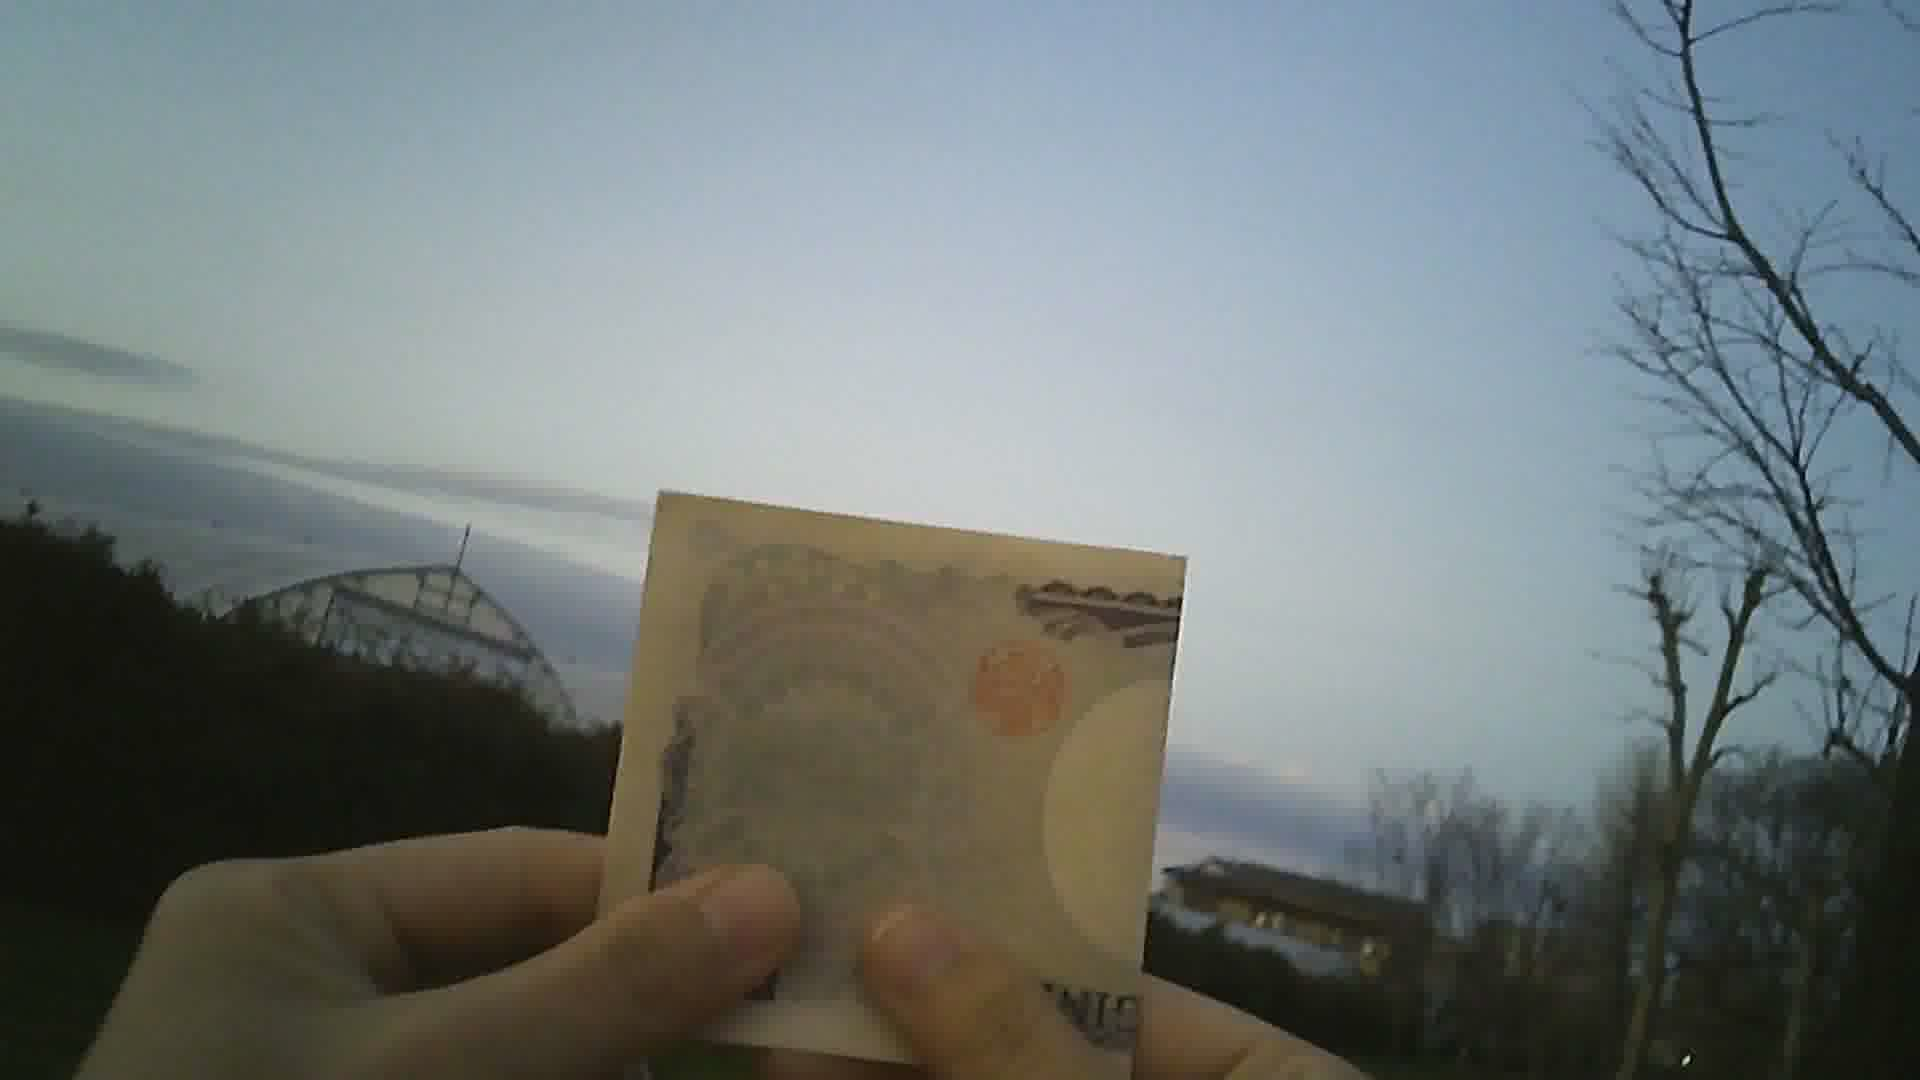5,000 Yen: (578, 469, 1200, 1079)
